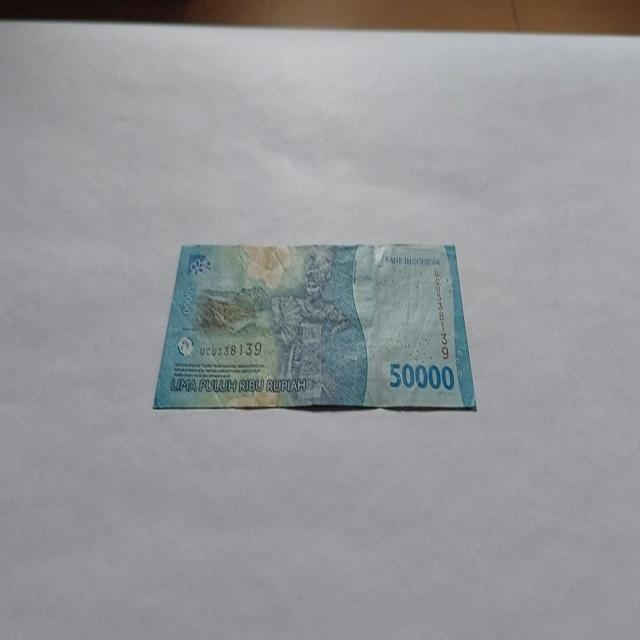lima puluh ribu rupiah: (151, 240, 477, 412)
